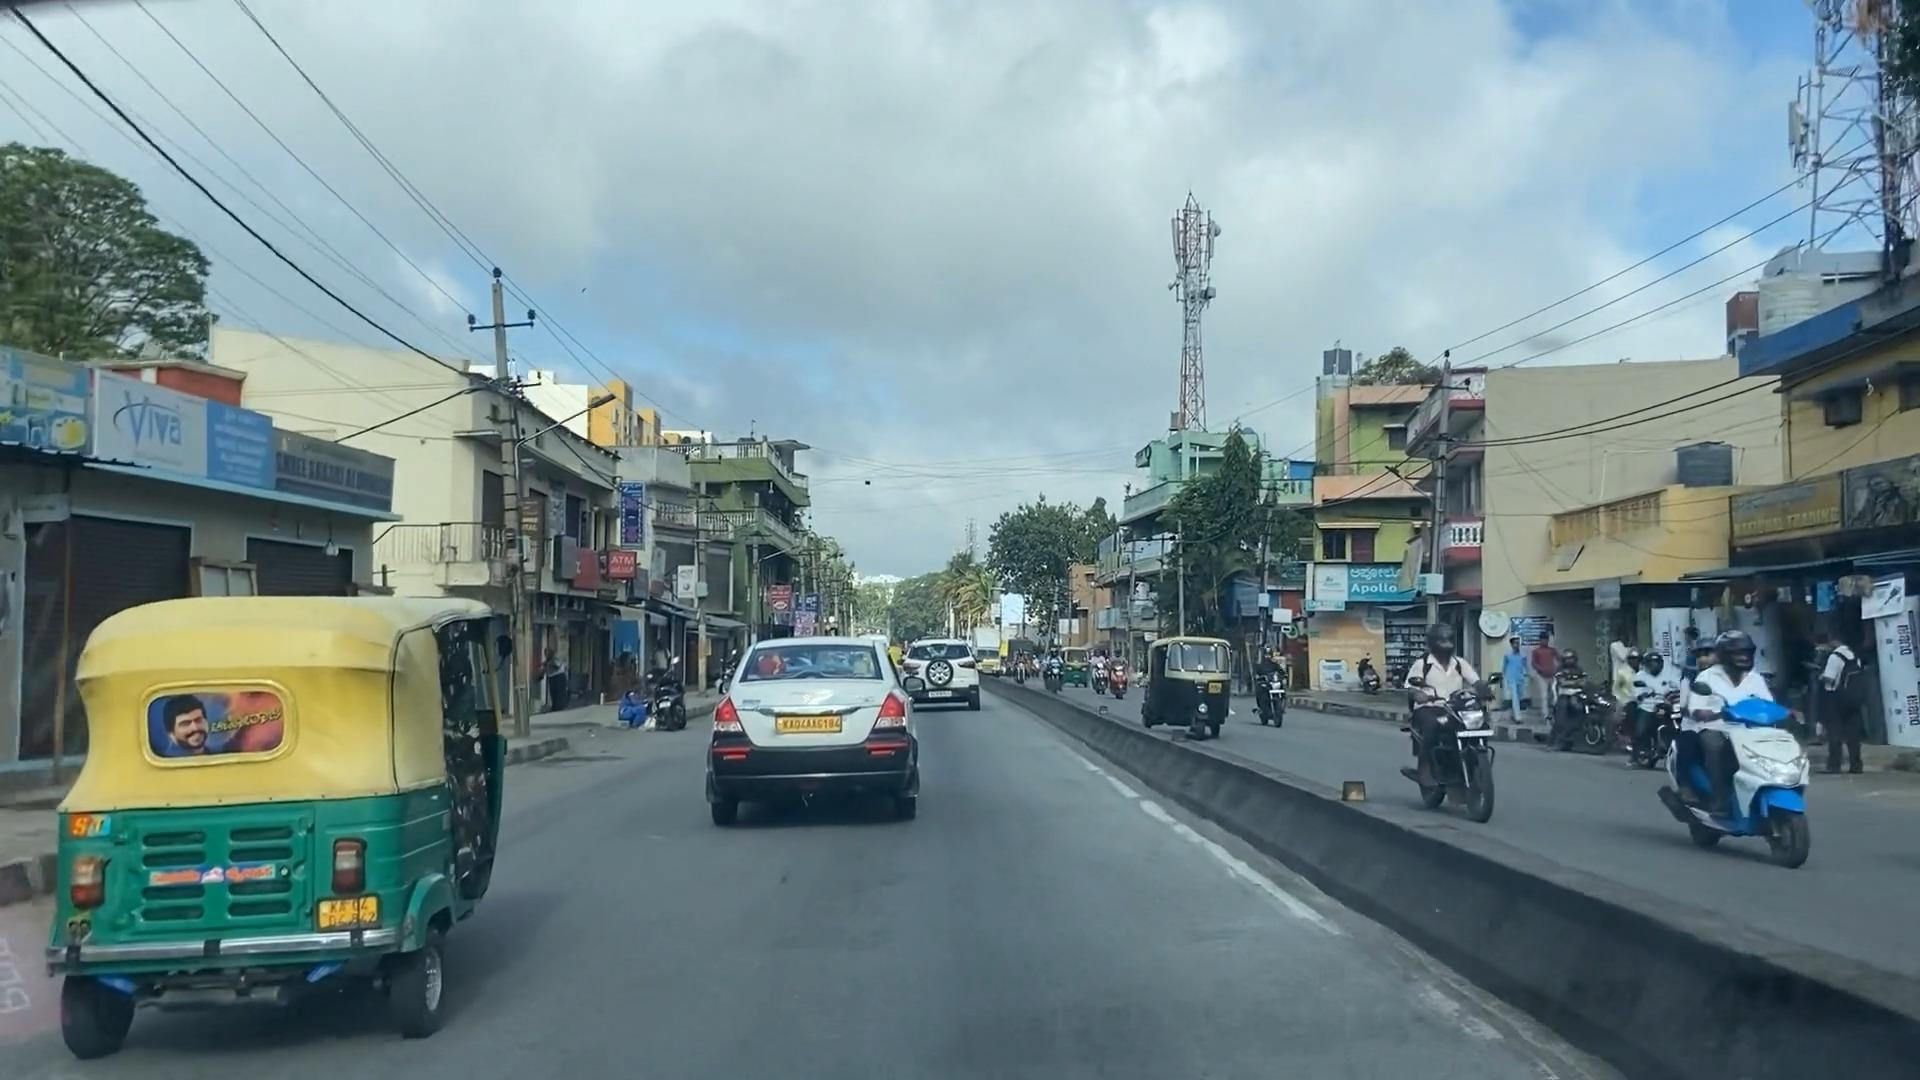LMV: (69, 599, 498, 1052), (705, 641, 924, 839)
